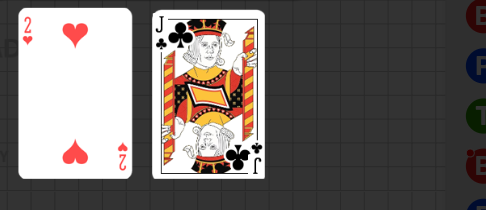2H: (116, 140, 128, 172)
JC: (249, 140, 264, 175)
